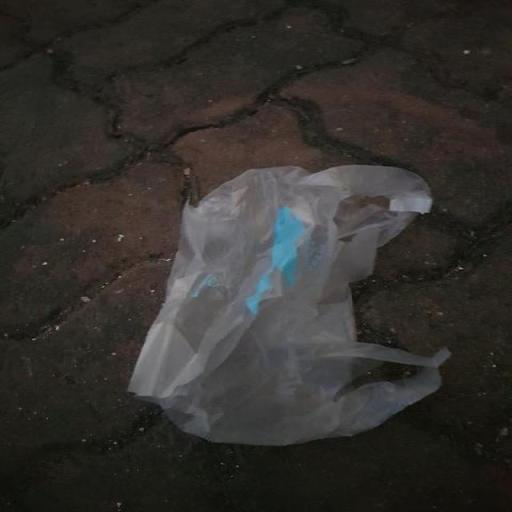plastic-bag: (123, 161, 459, 449)
